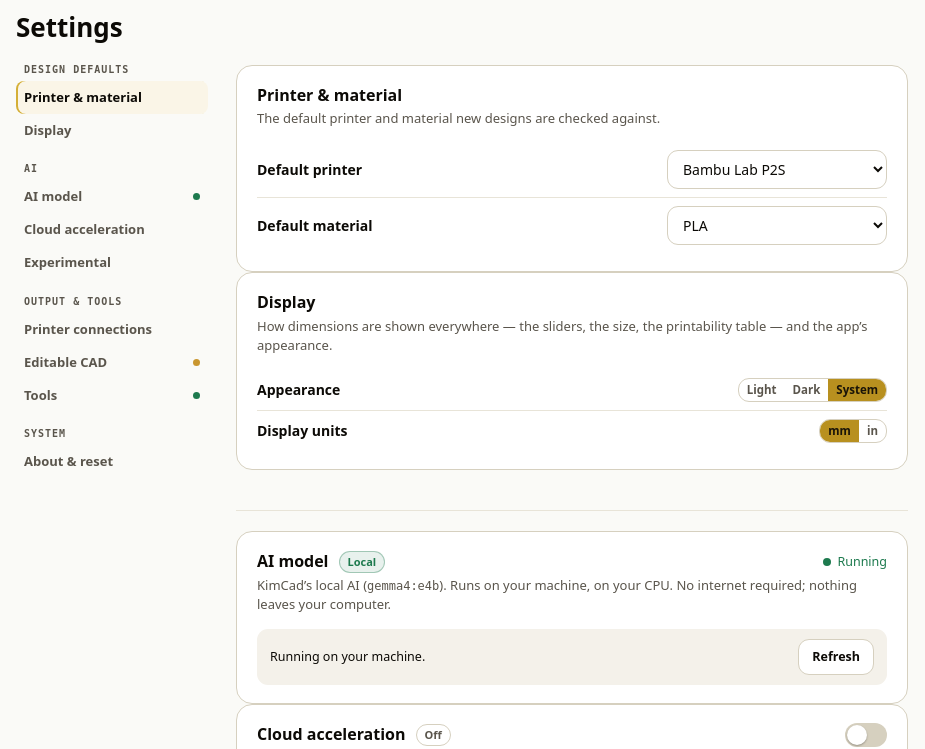
it: SettingsPanel › persists a printer change and shows Saved
The image size is (925, 749).
Select "Elegoo Neptune 4 Max" in the dropdown labelled "Default printer" at [777, 170], box [667,150,887,189]
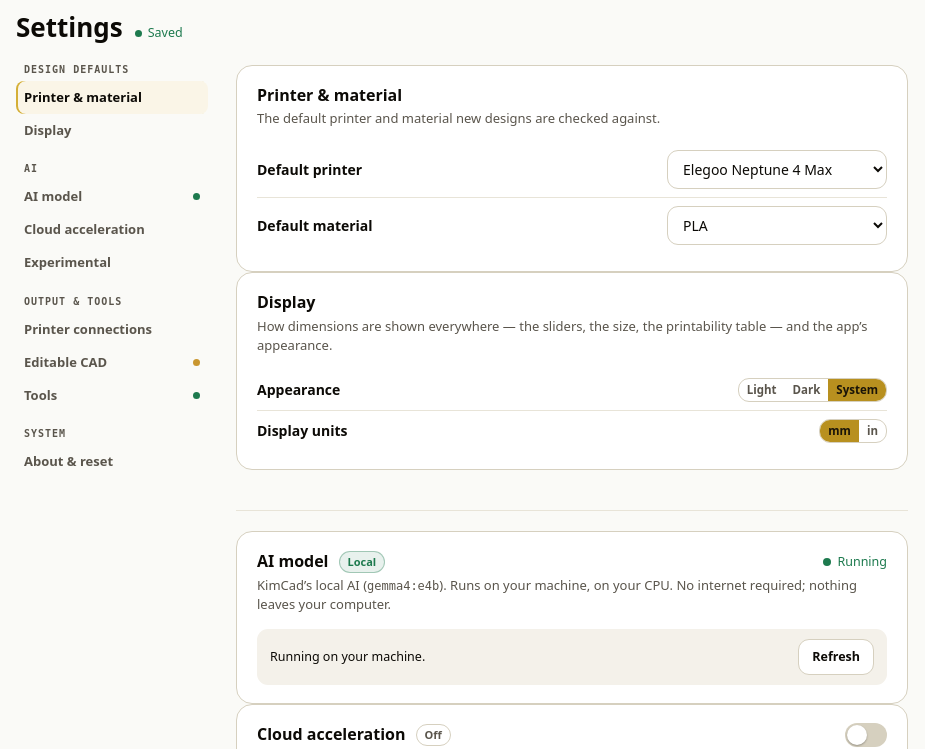
Expected: the text "Saved" is shown, [135,24,183,42]
